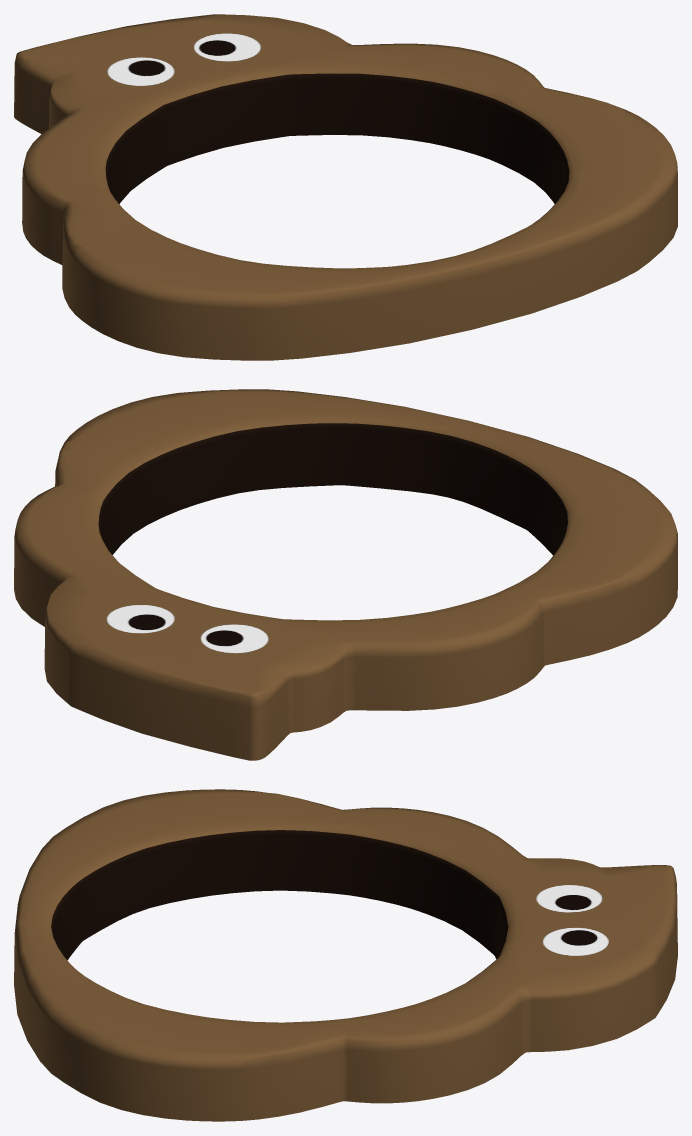
File: Pool.fbx
3 renders of one model, top to bottom at view 1: azimuth 30°, elevation 25°; view 2: azimuth 150°, elevation 25°; view 3: azimuth 270°, elevation 25°, orthographic. The views are drawn at different scales.
Visible parts, largest first — view 1: Pool; view 2: Pool; view 3: Pool.
Part boxes in pixels (x1,y1,x2,y2): Pool: (14,14,677,360); Pool: (14,389,677,760); Pool: (14,789,677,1121).
Size of the model in its own units: 2.85 by 0.3072 by 2.94.
